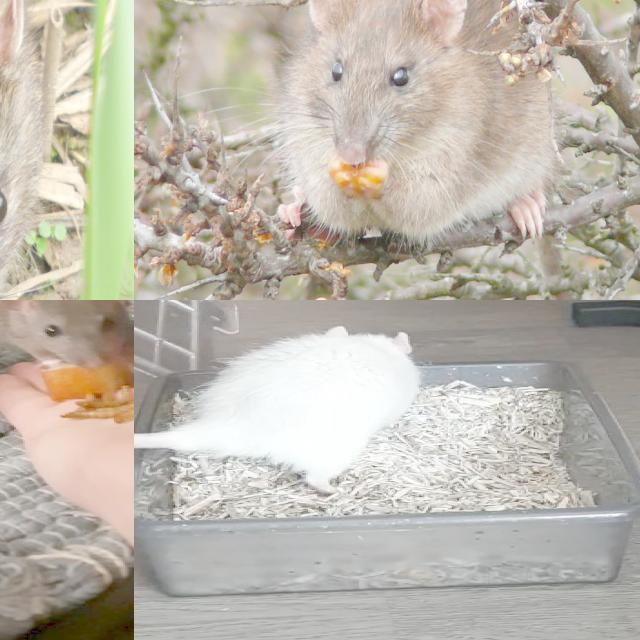rat: (286, 0, 551, 234), (188, 325, 423, 490), (0, 0, 40, 300), (0, 300, 134, 370)
